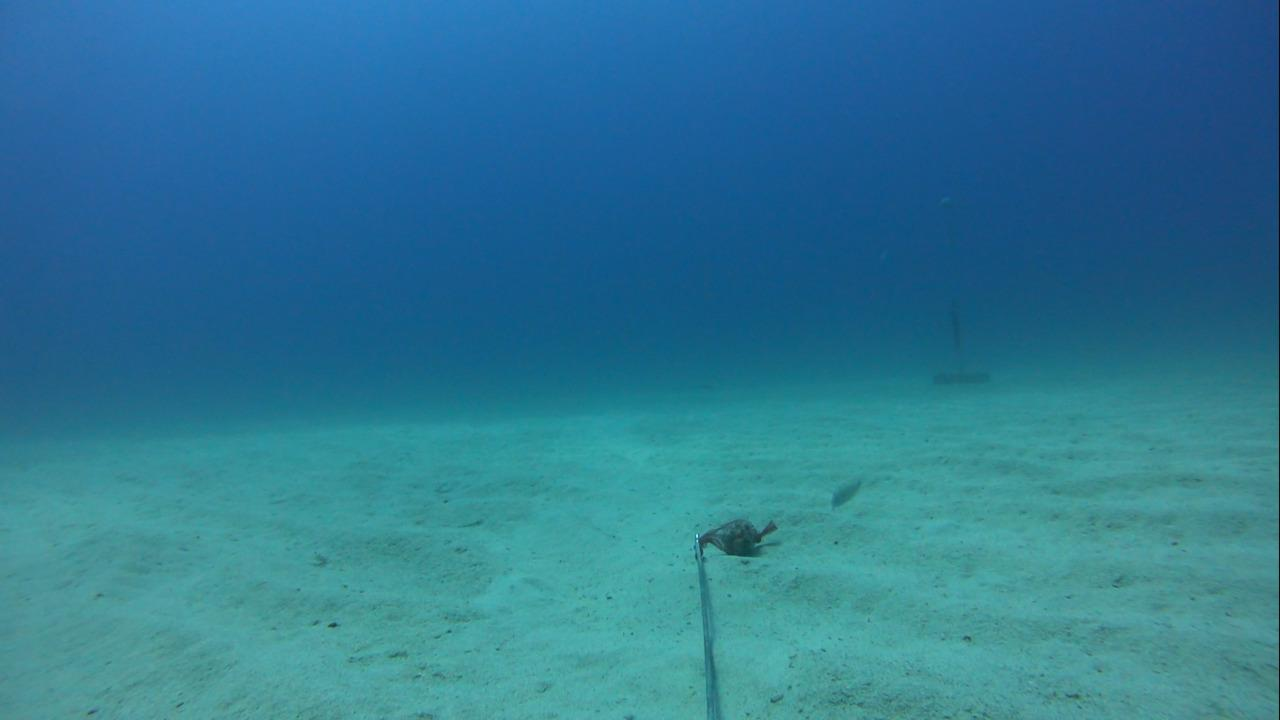raor: (819, 468, 868, 515)
